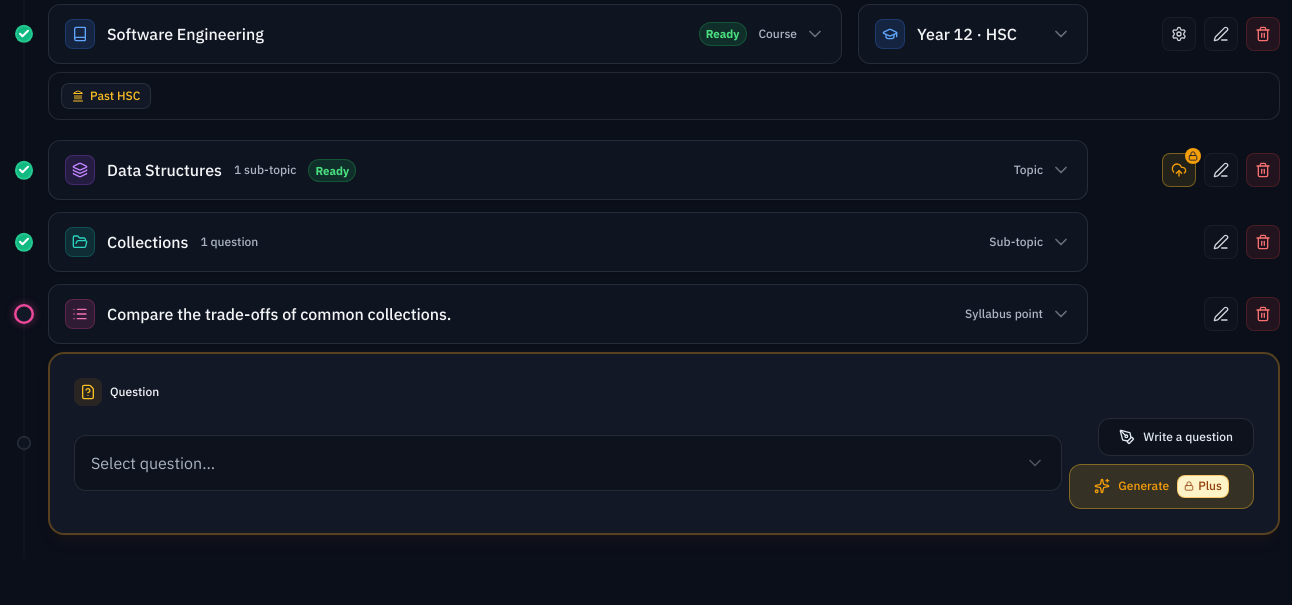
Test case: past HSC navigator › keeps the selected topic on screen even when it has no matching question
The width and height of the screenshot is (1292, 605).
Click the button "Past HSC" at (106, 96), box left=61, top=83, right=151, bottom=109
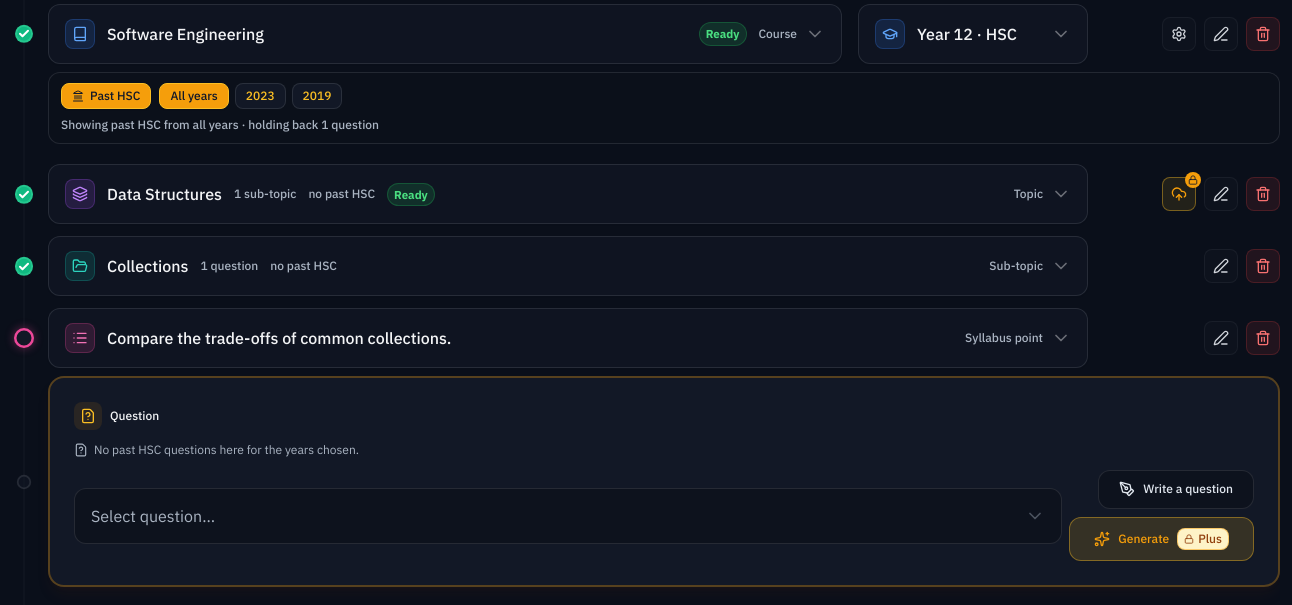
Click the button "Data Structures" at (164, 194), box left=48, top=164, right=1088, bottom=224
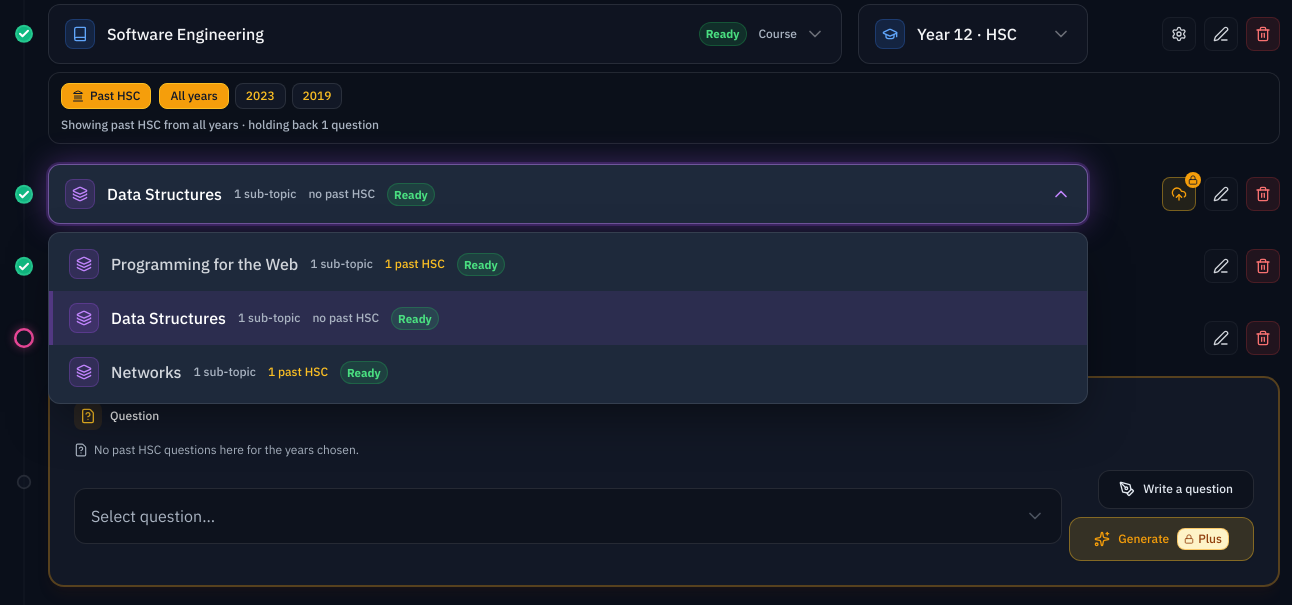
Result: the text "no past HSC" below "Programming for the Web" is shown at left=312, top=310, right=379, bottom=325
Result: the text "Networks" is shown at left=111, top=360, right=182, bottom=384
Result: the text "Programming for the Web" is shown at left=111, top=252, right=298, bottom=276
